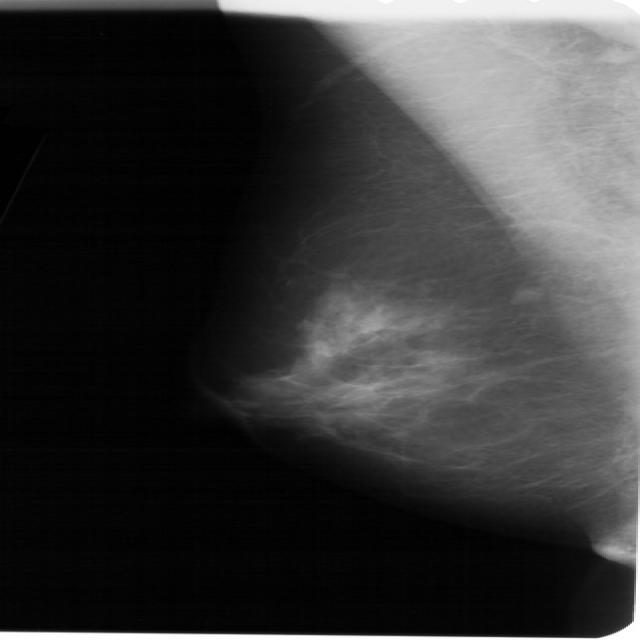tumour: (506, 283, 544, 305)
